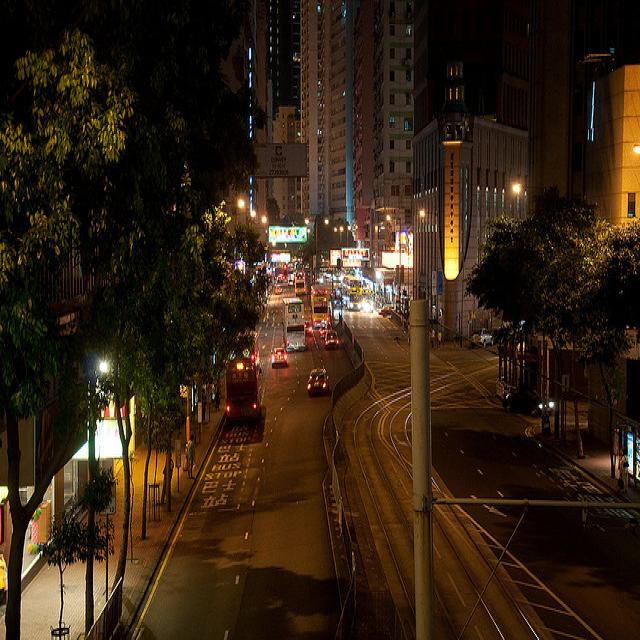Bus: (220, 331, 265, 428), (282, 292, 312, 358), (304, 276, 337, 332)
car: (499, 369, 571, 432), (334, 276, 377, 323), (268, 256, 318, 292), (471, 317, 506, 362), (310, 355, 333, 420)
